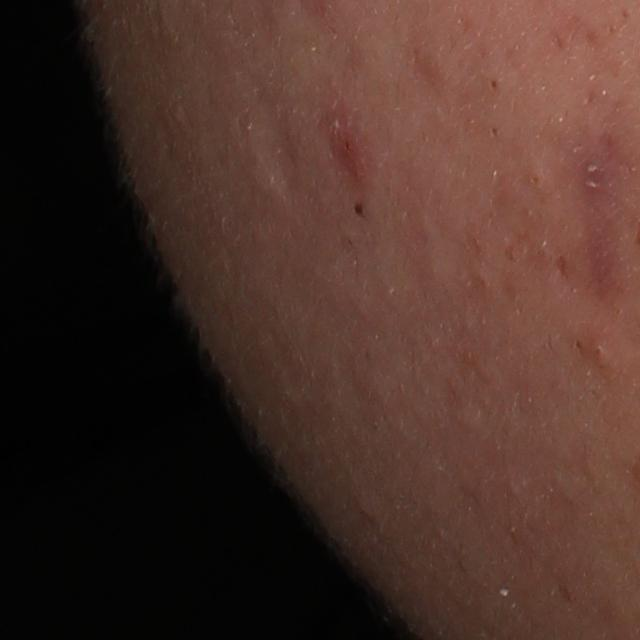atrophic_scar: (245, 94, 306, 202)
comedo: (587, 335, 617, 365), (343, 194, 368, 221), (529, 167, 549, 191), (484, 120, 508, 139), (487, 71, 502, 93)
papule: (329, 125, 374, 174)
